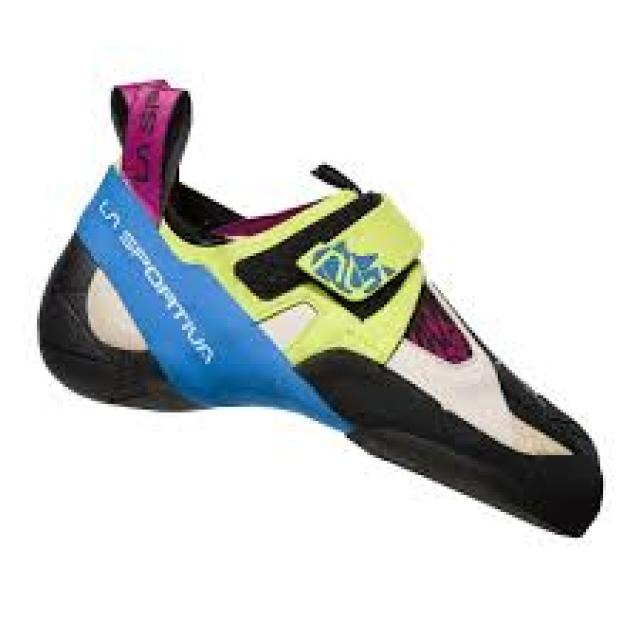climbing-shoes: (30, 74, 608, 542)
